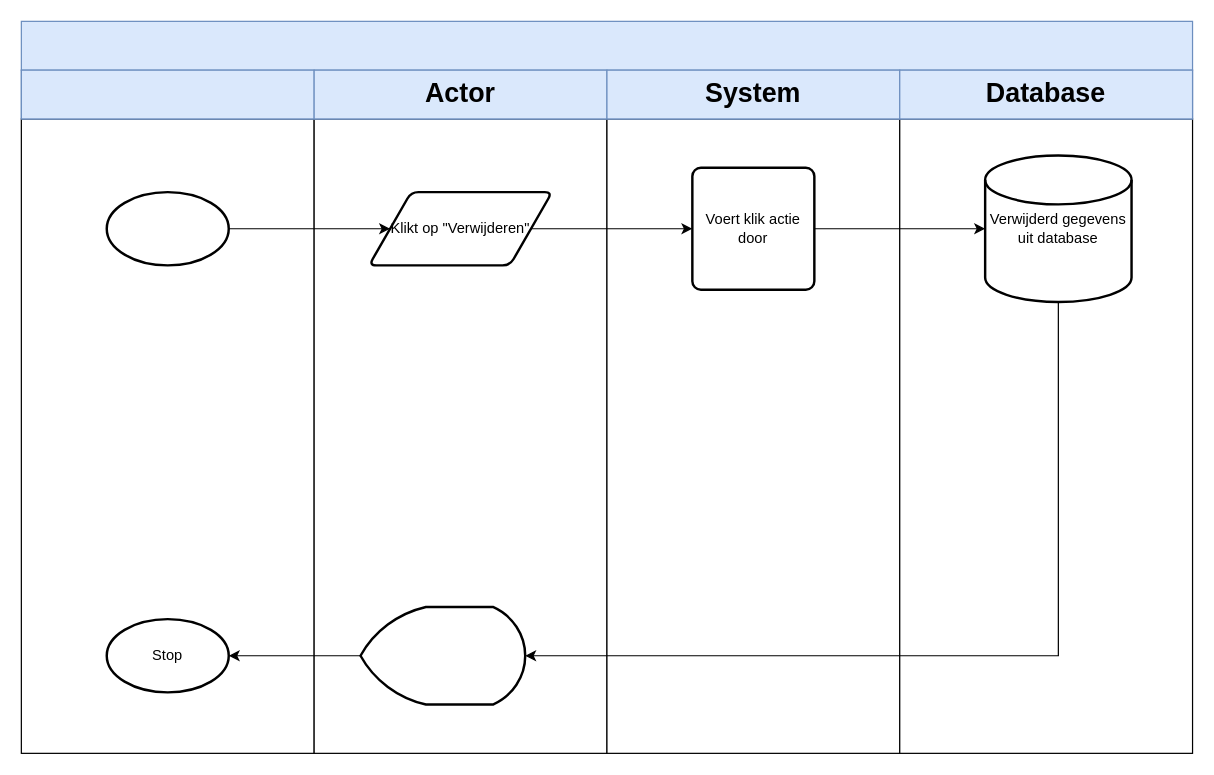
Image size: 1214x775. Some labels were removed from this diagram. The box of each missing label's shape, as (x1, y1, x2, y2) in pixels:
Actor heeft zich uitgeschreven voor sport: (359, 605, 526, 705)
Start: (105, 190, 229, 266)
Uitschrijven sport: (20, 20, 1193, 70)
